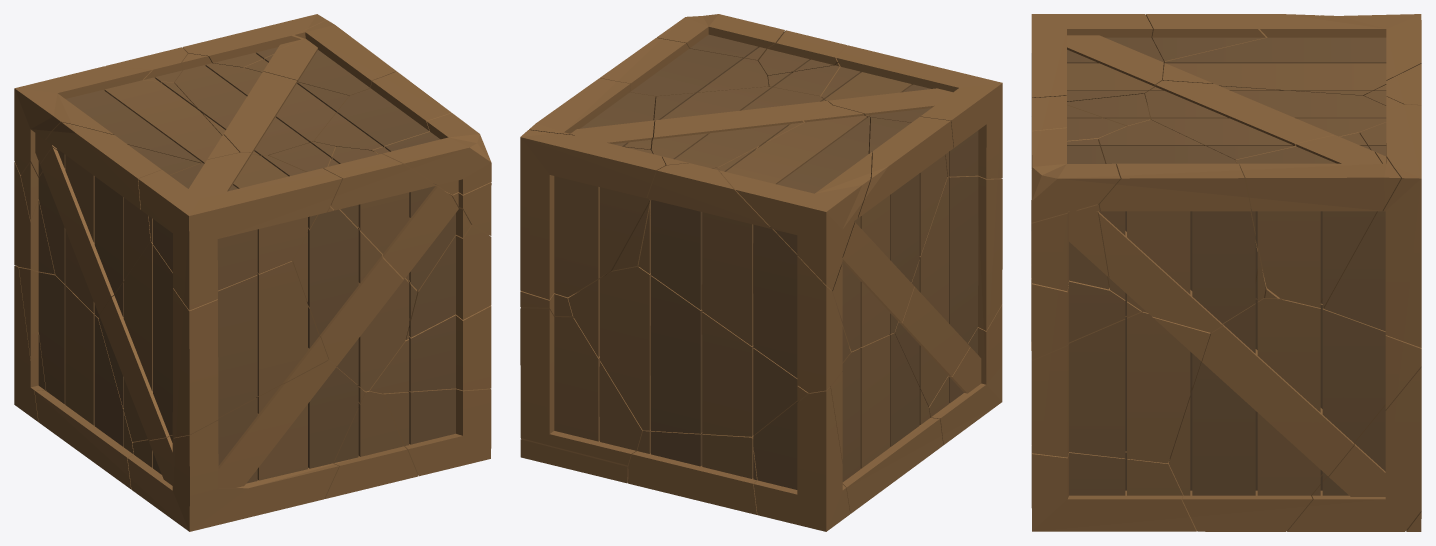
The model's file is Box_Broken.fbx.
The picture shows the model from 3 angles, left to right: view 1: azimuth 30°, elevation 25°; view 2: azimuth 150°, elevation 25°; view 3: azimuth 270°, elevation 25°; orthographic projection. The views are drawn at different scales.
Visible parts, largest first — view 1: Box_Shard_26, Box_Shard_09, Box_Shard_01, Box_Shard_03, Box_Shard_05, Box_Shard_22, Box_Shard_23, Box_Shard_19, Box_Shard_27, Box_Shard_24, Box_Shard_04, Box_Shard_25 (+8 smaller); view 2: Box_Shard_13, Box_Shard_20, Box_Shard_07, Box_Shard_03, Box_Shard_22, Box_Shard_26, Box_Shard_12, Box_Shard_01, Box_Shard_23, Box_Shard_27, Box_Shard_06, Box_Shard_11 (+8 smaller); view 3: Box_Shard_10, Box_Shard_25, Box_Shard_04, Box_Shard_21, Box_Shard_22, Box_Shard_07, Box_Shard_27, Box_Shard_12, Box_Shard_24, Box_Shard_01, Box_Shard_16, Box_Shard_17 (+5 smaller).
Part boxes in pixels (left/top/right/bottom): Box_Shard_26: left=98, top=242, right=328, bottom=441; Box_Shard_09: left=127, top=360, right=365, bottom=531; Box_Shard_01: left=138, top=152, right=341, bottom=310; Box_Shard_03: left=21, top=122, right=200, bottom=317; Box_Shard_05: left=269, top=141, right=417, bottom=391; Box_Shard_22: left=14, top=66, right=239, bottom=177; Box_Shard_23: left=19, top=267, right=133, bottom=488; Box_Shard_19: left=323, top=146, right=471, bottom=290; Box_Shard_27: left=174, top=53, right=349, bottom=156; Box_Shard_24: left=382, top=388, right=491, bottom=476; Box_Shard_04: left=369, top=305, right=491, bottom=393; Box_Shard_25: left=314, top=71, right=451, bottom=153; Box_Shard_13: left=638, top=163, right=850, bottom=392; Box_Shard_20: left=568, top=267, right=808, bottom=436; Box_Shard_07: left=520, top=130, right=665, bottom=299; Box_Shard_03: left=831, top=116, right=953, bottom=351; Box_Shard_22: left=718, top=105, right=871, bottom=290; Box_Shard_26: left=894, top=175, right=1002, bottom=406; Box_Shard_12: left=520, top=308, right=643, bottom=468; Box_Shard_01: left=821, top=45, right=1002, bottom=178; Box_Shard_23: left=830, top=333, right=943, bottom=513; Box_Shard_27: left=601, top=86, right=832, bottom=277; Box_Shard_06: left=753, top=387, right=849, bottom=531; Box_Shard_11: left=628, top=430, right=757, bottom=514; Box_Shard_10: left=1169, top=298, right=1421, bottom=531; Box_Shard_25: left=1097, top=120, right=1265, bottom=332; Box_Shard_04: left=1031, top=311, right=1210, bottom=463; Box_Shard_21: left=1236, top=132, right=1400, bottom=308; Box_Shard_22: left=1163, top=14, right=1421, bottom=95; Box_Shard_07: left=1320, top=104, right=1421, bottom=347; Box_Shard_27: left=1145, top=80, right=1403, bottom=161; Box_Shard_12: left=1287, top=366, right=1421, bottom=531; Box_Shard_24: left=1031, top=445, right=1196, bottom=531; Box_Shard_01: left=1031, top=14, right=1163, bottom=116; Box_Shard_16: left=1031, top=128, right=1120, bottom=222; Box_Shard_17: left=1031, top=204, right=1108, bottom=291.
Bounding box in the file's own units: 91.63 × 91.66 × 91.32.
